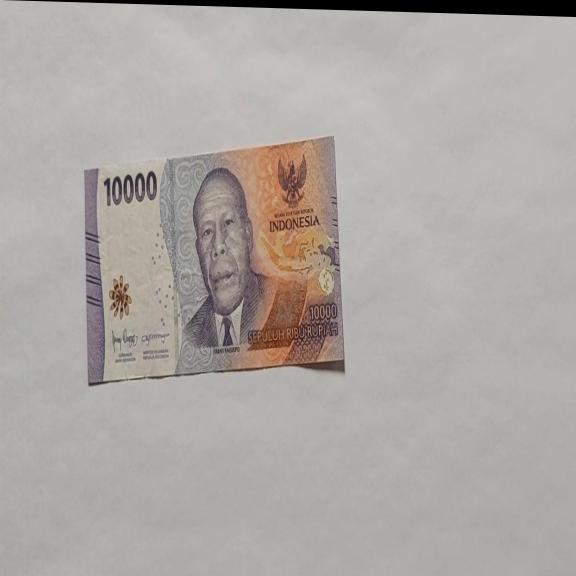Kertas: (83, 126, 346, 392), (102, 167, 158, 209)
